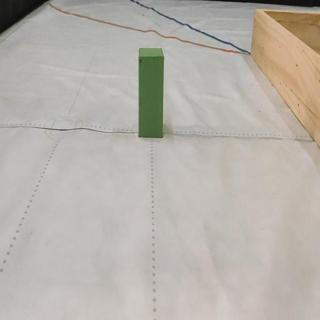greenbox: (139, 45, 165, 138)
